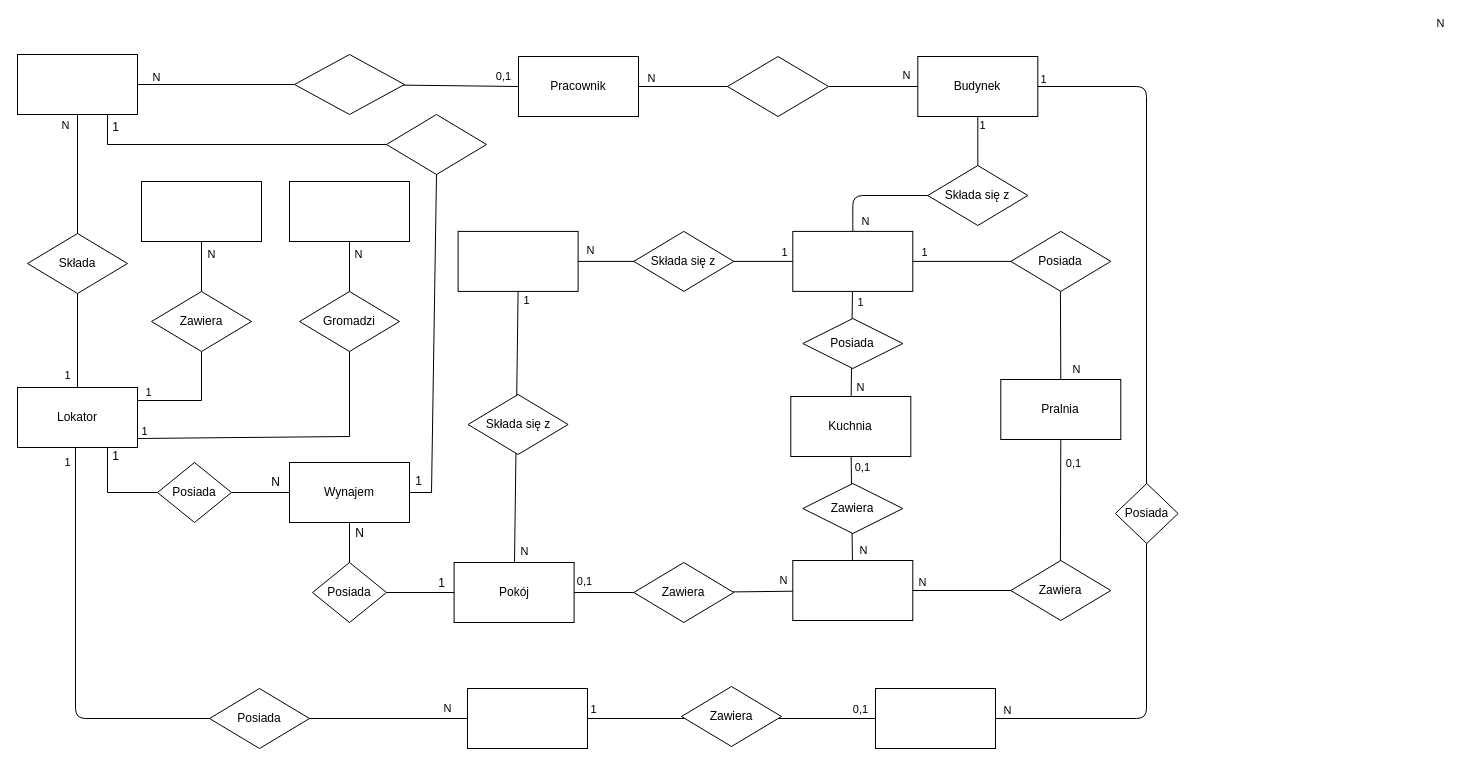
This 1462x767 diagram has some shape labels left out. Each missing label, with the centre of its shape:
"Dotyczy" goes at (x=436, y=144).
"Karta Mieszkańca" goes at (x=527, y=718).
"Miejsce Parkingowe" goes at (x=935, y=718).
"Moduł" goes at (x=517, y=260).
"Należność" goes at (x=349, y=211).
"Piętro" goes at (x=852, y=260).
"Pracuje w" goes at (x=777, y=86).
"Płatność" goes at (x=201, y=211).
"Rozpatruje" goes at (x=349, y=84).
"Sprzęt" goes at (x=852, y=590).
"Wniosek" goes at (x=77, y=84).
